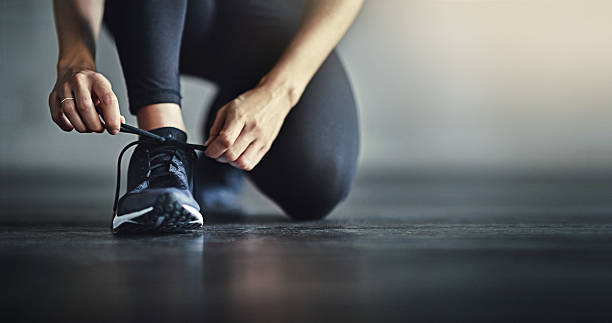Footwear: (100, 122, 211, 232)
